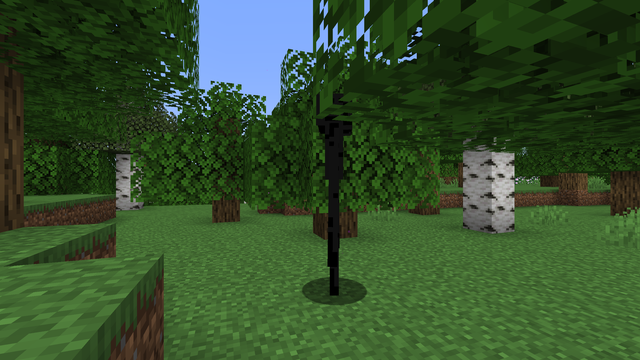endermens: (308, 94, 361, 301)
